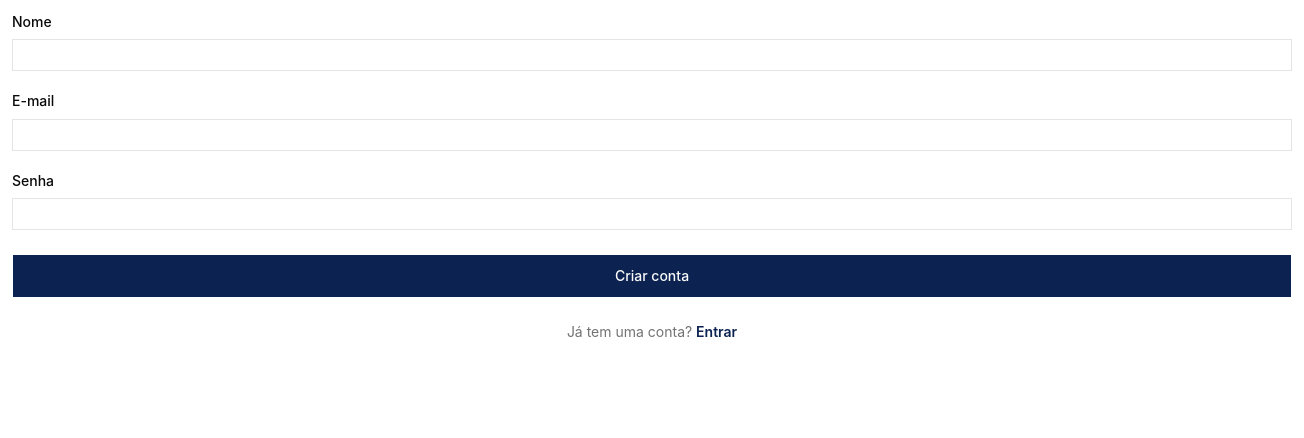
it: contratos de acessibilidade e validação dos formulários › mantém o cadastro acessível e valida senha antes do envio
The width and height of the screenshot is (1304, 438).
Type "Ana Souza" into the field labelled "Nome" at point(652, 55), box [12,39,1292,71]
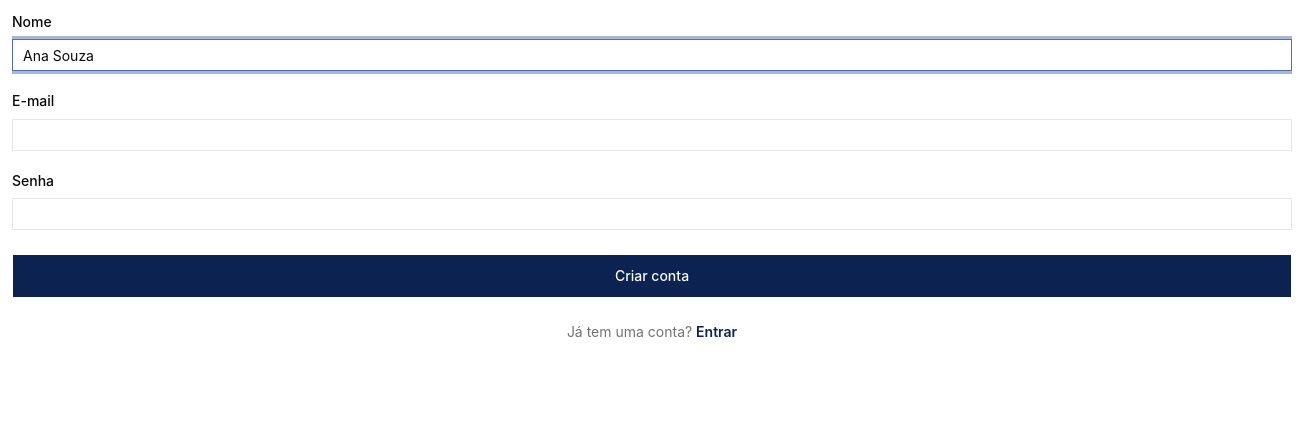
Type "ana@exemplo.com" into the field labelled "E-mail" at point(652, 134), box [12,118,1292,150]
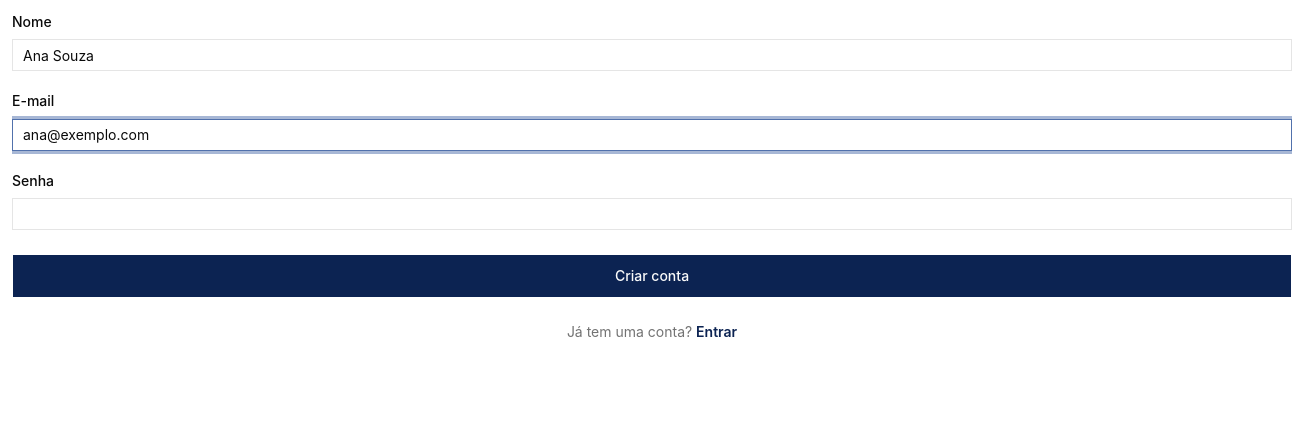
Type "123" into the password field labelled "Senha" at point(652, 214), box [12,198,1292,230]
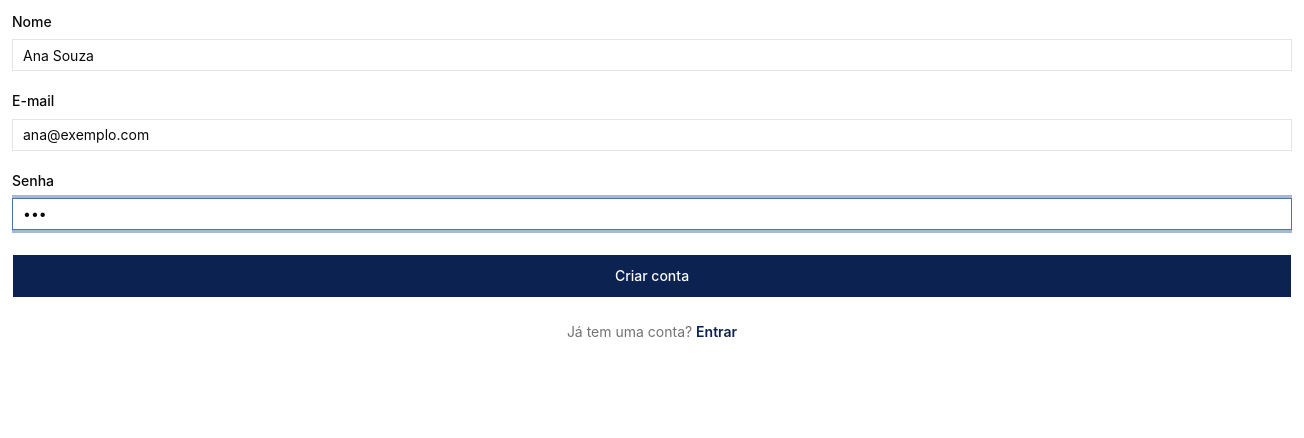
Click the button "Criar conta" at point(652, 276), box [12,254,1292,298]
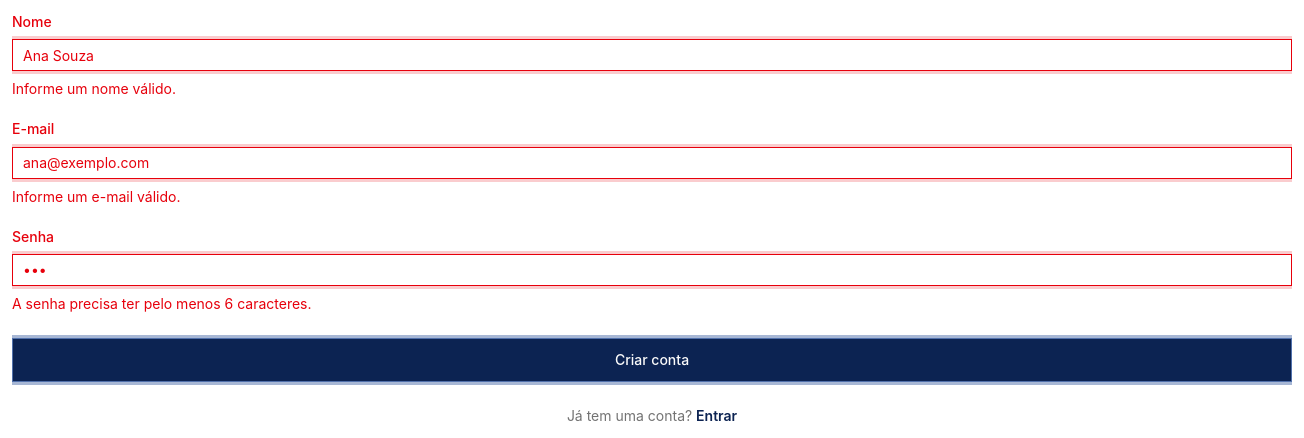
Now the text "A senha precisa ter pelo menos 6 caracteres." is shown, box [12,295,312,312]
